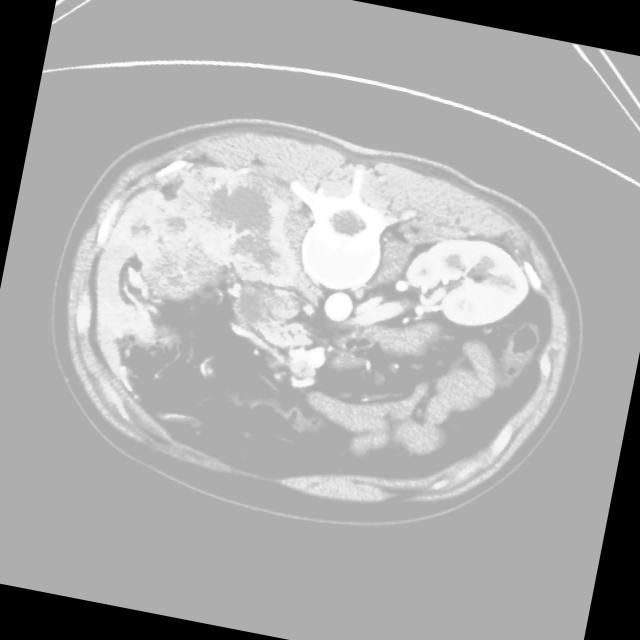TUMOR: (99, 194, 523, 481)
